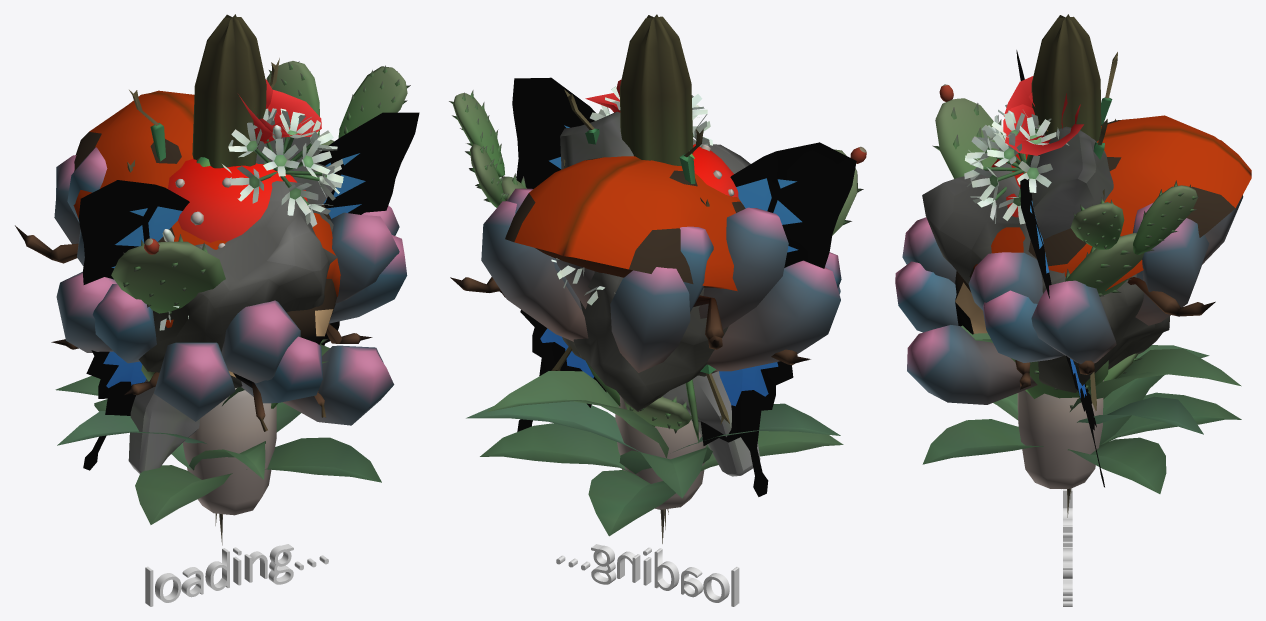
Rendered from loading.glb.
The picture shows the model from 3 angles, left to right: view 1: azimuth 30°, elevation 25°; view 2: azimuth 150°, elevation 25°; view 3: azimuth 270°, elevation 25°; orthographic projection. The views are drawn at different scales.
Parts seen in each view (by area): view 1: alt100.012, base503.036, base130.020, anim_3_5_neg3.012, base569.012, alt1.024, alt3218.034, alt3210.012, Monolith.066, loading, base534.120, base005.004; view 2: alt100.012, alt1.024, base130.020, base503.036, alt3210.012, anim_3_5_neg3.012, alt3218.034, Monolith.066, base569.012, loading, base005.004, base534.120; view 3: alt100.012, base503.036, alt1.024, alt3218.034, anim_3_5_neg3.012, base569.012, alt3210.012, Monolith.066, base130.020, base534.120, loading, base005.004.
Boxes of the visible parts, box(x1,y1,x2,y2) form: alt100.012: box(54, 147, 407, 425); base503.036: box(55, 108, 381, 545); base130.020: box(78, 112, 419, 470); anim_3_5_neg3.012: box(138, 181, 337, 388); base569.012: box(168, 159, 307, 515); alt1.024: box(15, 90, 372, 431); alt3218.034: box(111, 61, 410, 408); alt3210.012: box(192, 14, 266, 168); Monolith.066: box(128, 110, 333, 473); loading: box(145, 544, 328, 606); base534.120: box(238, 79, 321, 143); base005.004: box(127, 58, 279, 172); alt100.012: box(481, 188, 841, 372); alt1.024: box(450, 156, 810, 365); base130.020: box(512, 77, 856, 496); base503.036: box(466, 86, 843, 543); alt3210.012: box(620, 14, 693, 165); anim_3_5_neg3.012: box(562, 141, 750, 411); alt3218.034: box(449, 90, 866, 433); Monolith.066: box(560, 110, 760, 476); base569.012: box(615, 144, 738, 509); loading: box(556, 544, 739, 606); base005.004: box(551, 89, 729, 424); base534.120: box(585, 79, 698, 443); alt100.012: box(895, 121, 1243, 404); base503.036: box(922, 104, 1241, 517); alt1.024: box(955, 115, 1251, 389); alt3218.034: box(932, 84, 1198, 408); anim_3_5_neg3.012: box(922, 163, 1169, 392); base569.012: box(991, 153, 1103, 488); alt3210.012: box(1031, 14, 1101, 141); Monolith.066: box(1027, 126, 1113, 239); base130.020: box(1016, 50, 1104, 487); base534.120: box(1003, 76, 1083, 155); loading: box(1063, 489, 1072, 606); base005.004: box(1090, 52, 1117, 411).
Size of the model in its own units: 0.5423 by 0.8096 by 0.4716.
